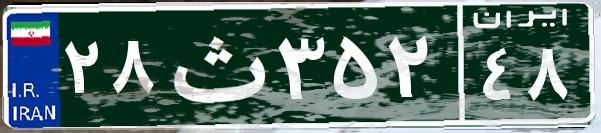2: (385, 28, 445, 110), (57, 26, 110, 107)
3: (273, 28, 330, 110)
4: (475, 38, 525, 113)
5: (330, 28, 385, 110)
8: (110, 28, 158, 105), (525, 38, 570, 115)
ث: (158, 15, 273, 115)
